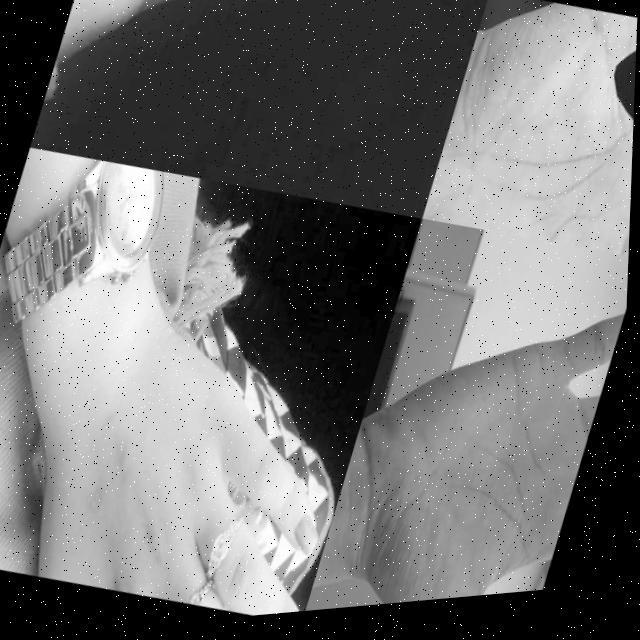no-gloves: (9, 267, 390, 638), (318, 240, 632, 616), (35, 0, 490, 224), (421, 0, 639, 286)
